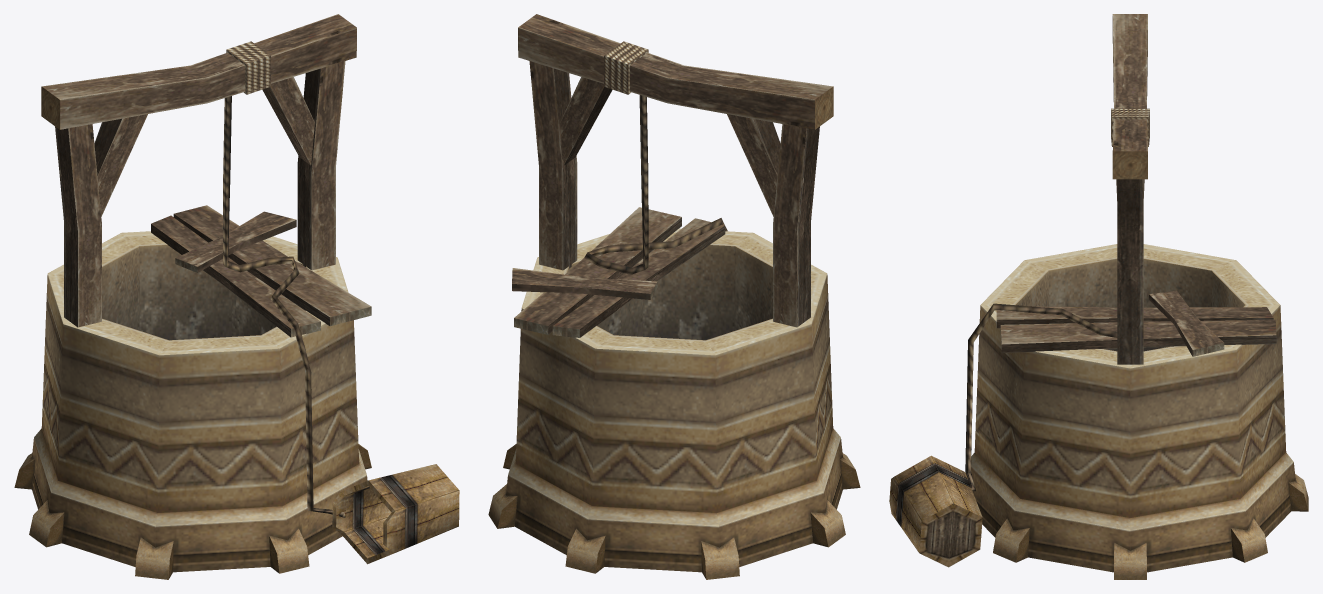
File: SC_tamalagebi_27.FBX
3 renders of one model, left to right at view 1: azimuth 30°, elevation 25°; view 2: azimuth 150°, elevation 25°; view 3: azimuth 270°, elevation 25°, orthographic. The views are drawn at different scales.
Visible parts, largest first — view 1: SC_tamalagebi_27; view 2: SC_tamalagebi_27; view 3: SC_tamalagebi_27.
Boxes of the visible parts, x1,y1,x2,y2 form: SC_tamalagebi_27: (14,14,459,579); SC_tamalagebi_27: (488,14,860,579); SC_tamalagebi_27: (889,14,1308,579).
Bounding box in the file's own units: 144 × 188 × 169.
